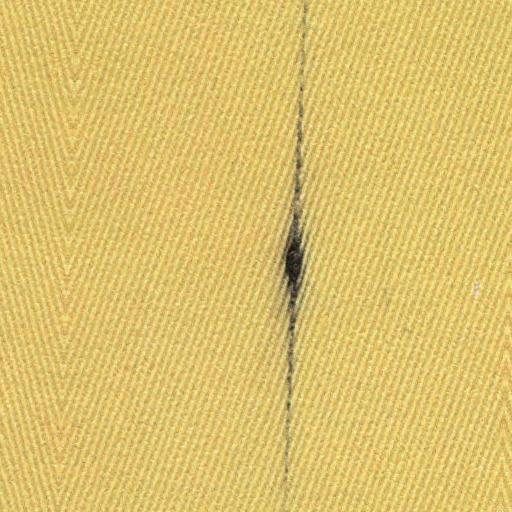stain: (266, 0, 323, 511)
